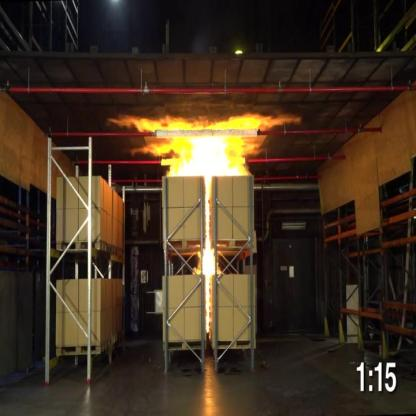fire: (106, 112, 303, 172), (197, 178, 220, 337)
